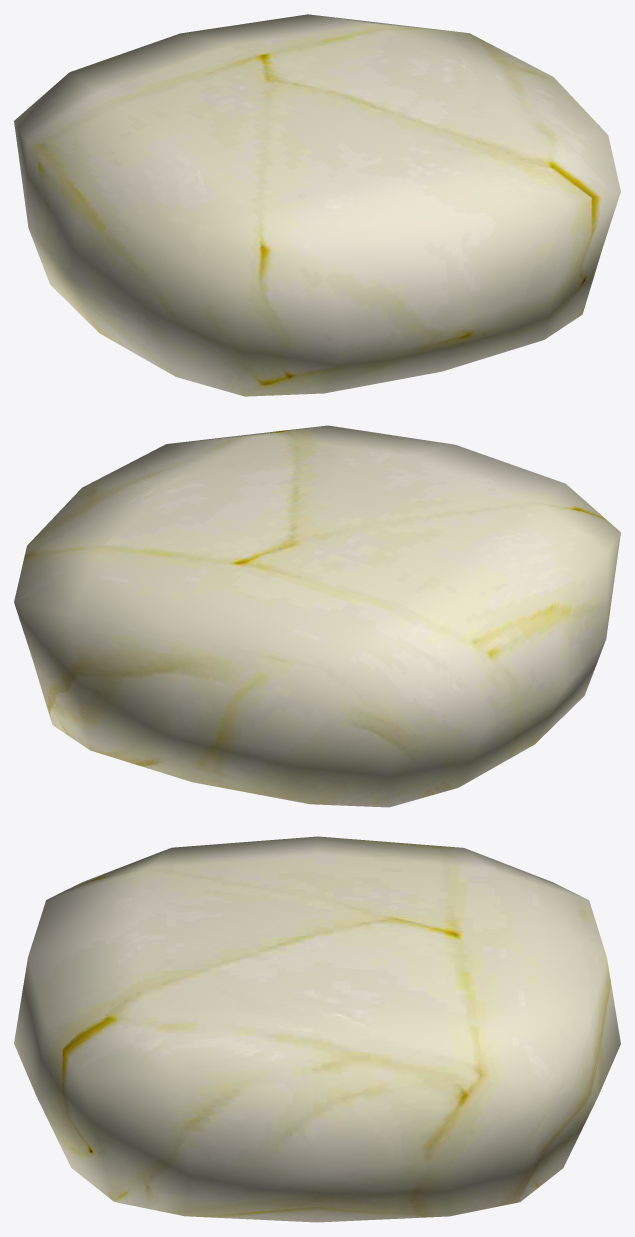
The model's file is queso-asadero.glb.
3 views of the same model, one above another, from view 1: azimuth 30°, elevation 25°; view 2: azimuth 150°, elevation 25°; view 3: azimuth 270°, elevation 25° (orthographic). The views are drawn at different scales.
Parts seen in each view (by area): view 1: queso-asadero; view 2: queso-asadero; view 3: queso-asadero.
Part boxes in pixels (x1,y1,x2,y2): queso-asadero: (14, 14, 620, 396); queso-asadero: (14, 425, 620, 807); queso-asadero: (14, 836, 620, 1222).
Size of the model in its own units: 0.2137 by 0.0769 by 0.2161.
1 material, 1 textured.
